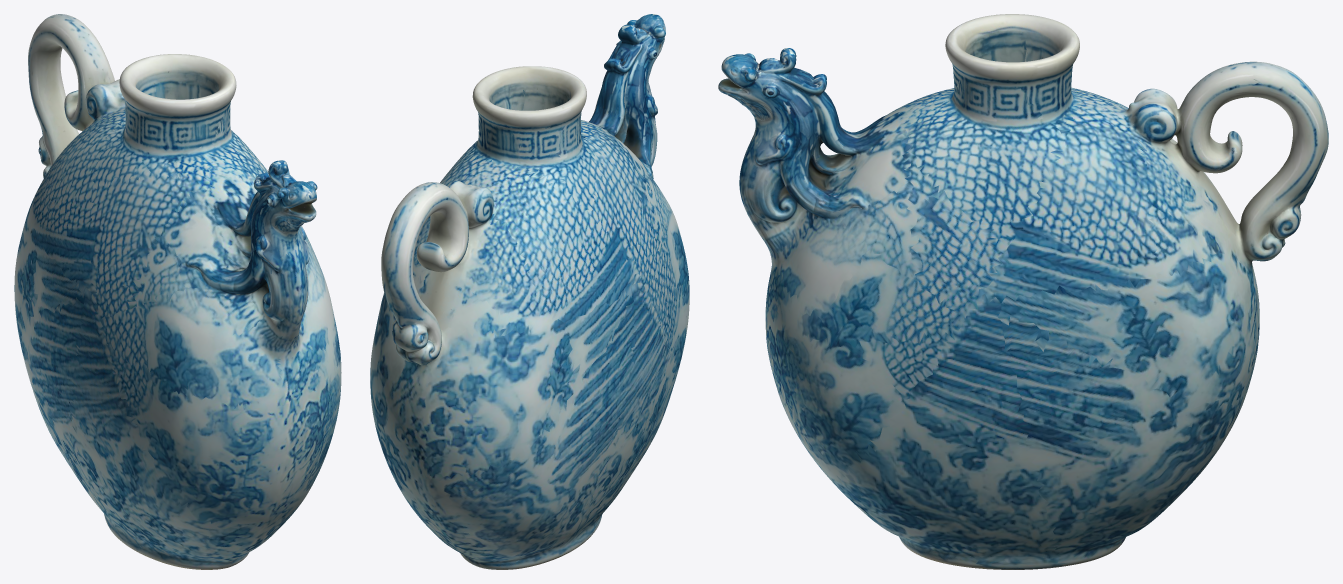
The model's file is phoenix-mobile.glb.
The picture shows the model from 3 angles, left to right: view 1: azimuth 30°, elevation 25°; view 2: azimuth 150°, elevation 25°; view 3: azimuth 270°, elevation 25°; orthographic projection. The views are drawn at different scales.
Visible parts, largest first — view 1: tripo_node_07039654-0ade-49d4-918f-1af4125001a4.001; view 2: tripo_node_07039654-0ade-49d4-918f-1af4125001a4.001; view 3: tripo_node_07039654-0ade-49d4-918f-1af4125001a4.001.
Boxes of the visible parts, bbox=[...] form: tripo_node_07039654-0ade-49d4-918f-1af4125001a4.001: bbox=[14, 14, 341, 569]; tripo_node_07039654-0ade-49d4-918f-1af4125001a4.001: bbox=[370, 14, 689, 569]; tripo_node_07039654-0ade-49d4-918f-1af4125001a4.001: bbox=[718, 14, 1328, 569].
Size of the model in its own units: 0.4213 by 0.8937 by 0.9793.
1 material, 1 textured.
